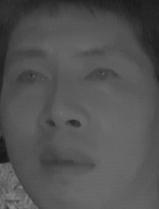eye: (85, 62, 123, 89), (11, 69, 50, 88)
mouth: (38, 142, 96, 180)
